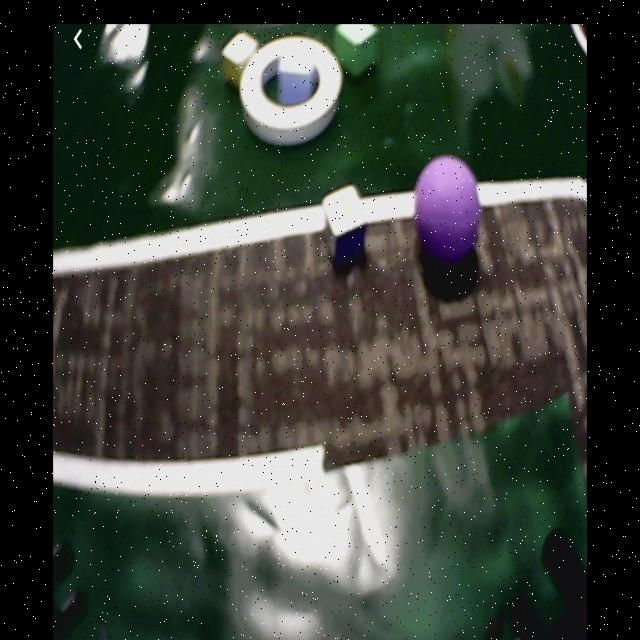ball: (416, 158, 482, 259)
